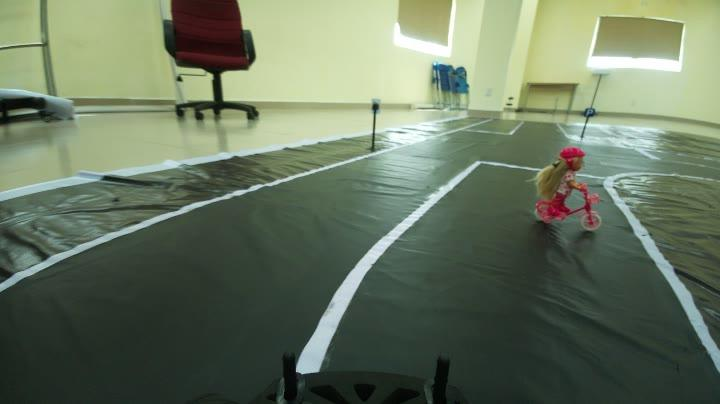pedestrian: (533, 146, 611, 231)
